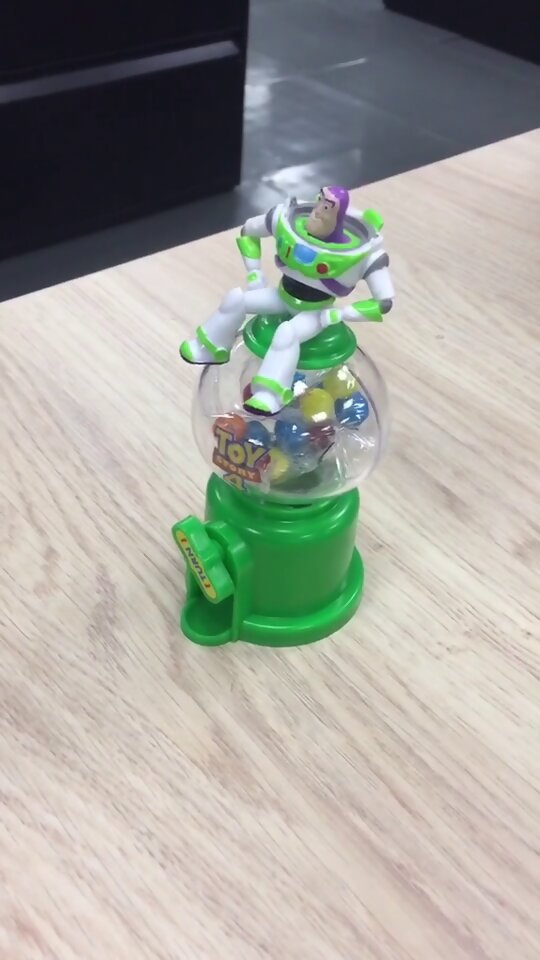buzz: (161, 169, 409, 647)
